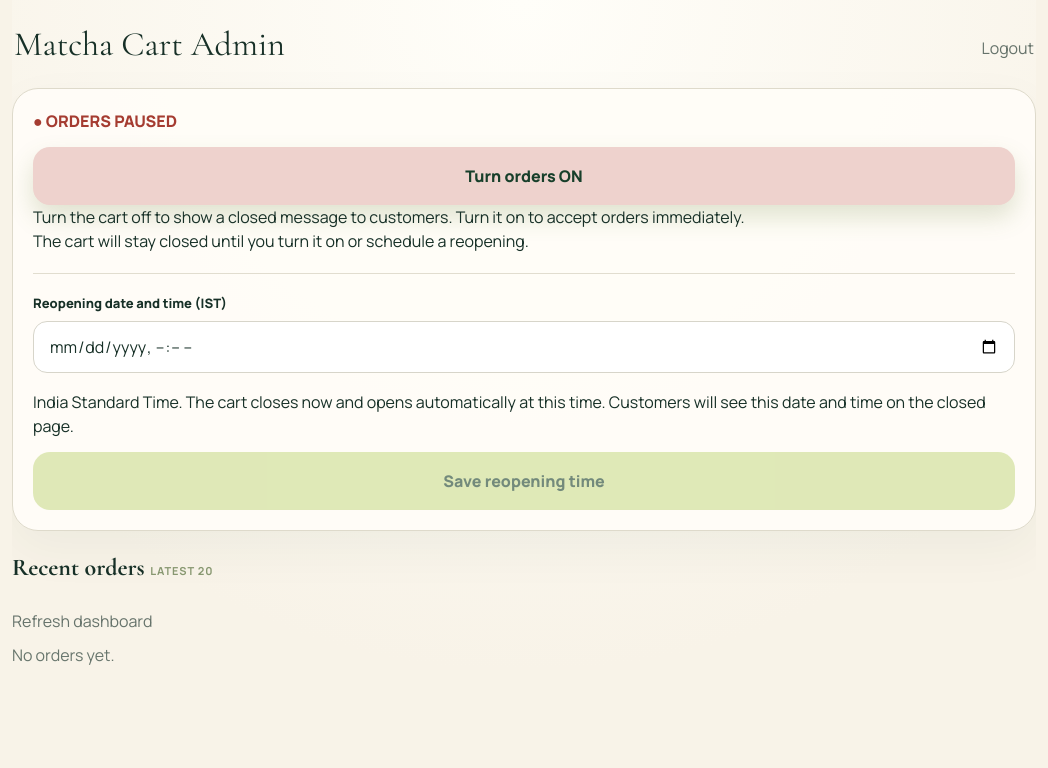
admin dashboard › keeps the saved setting when an update fails
Click the button "Turn orders ON": (524, 176) [33,147,1015,205]
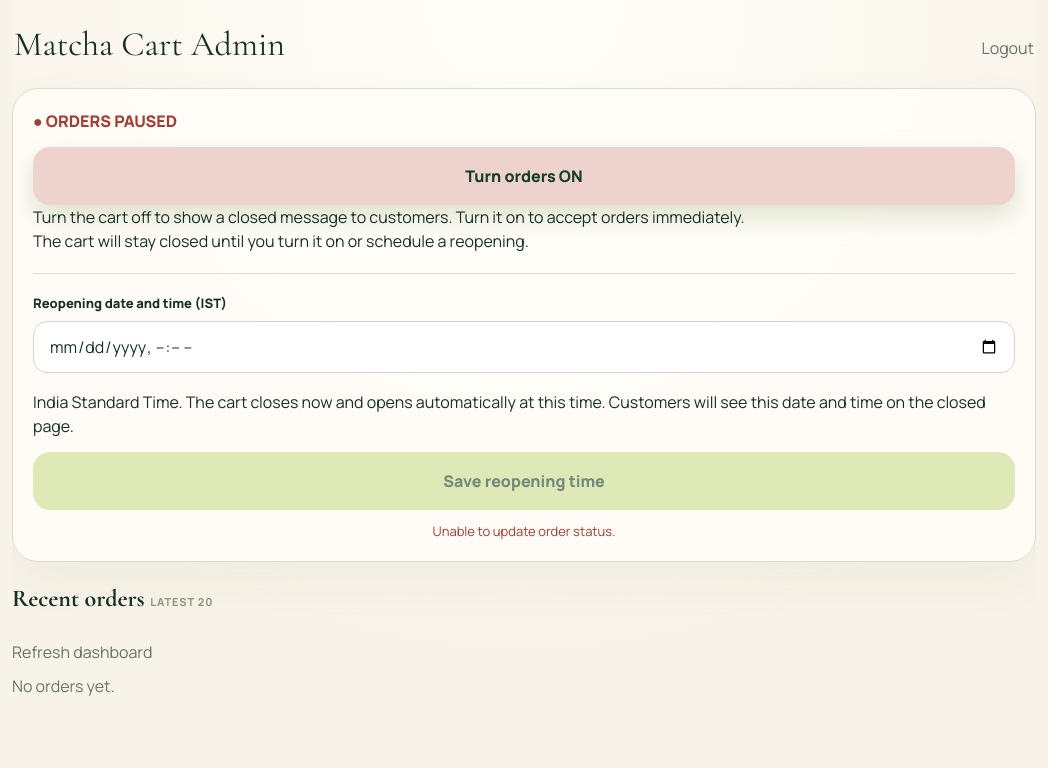
Expected: the text "● ORDERS PAUSED" is shown, [33,110,177,132]
Now the text "Unable to update order status." is shown, box [433,522,616,540]
